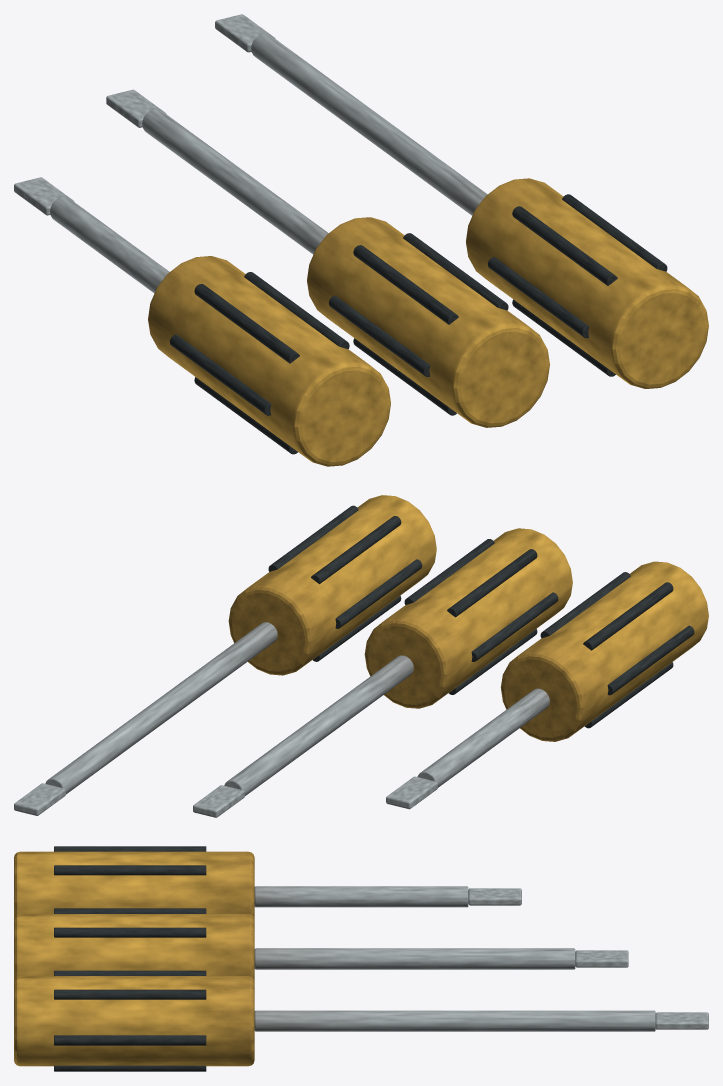
Rendered from GR_ScrewdriverSet_04.glb.
3 renders of one model, top to bottom at view 1: azimuth 30°, elevation 25°; view 2: azimuth 150°, elevation 25°; view 3: azimuth 270°, elevation 25°, orthographic. The views are drawn at different scales.
Visible parts, largest first — view 1: Static; view 2: Static; view 3: Static.
Boxes of the visible parts, box(x1,y1,x2,y2) form: Static: box(14, 14, 708, 466); Static: box(14, 495, 708, 817); Static: box(14, 846, 708, 1071).
Bounding box in the file's own units: 0.148 × 0.034 × 0.26.
1 material, 1 textured.
